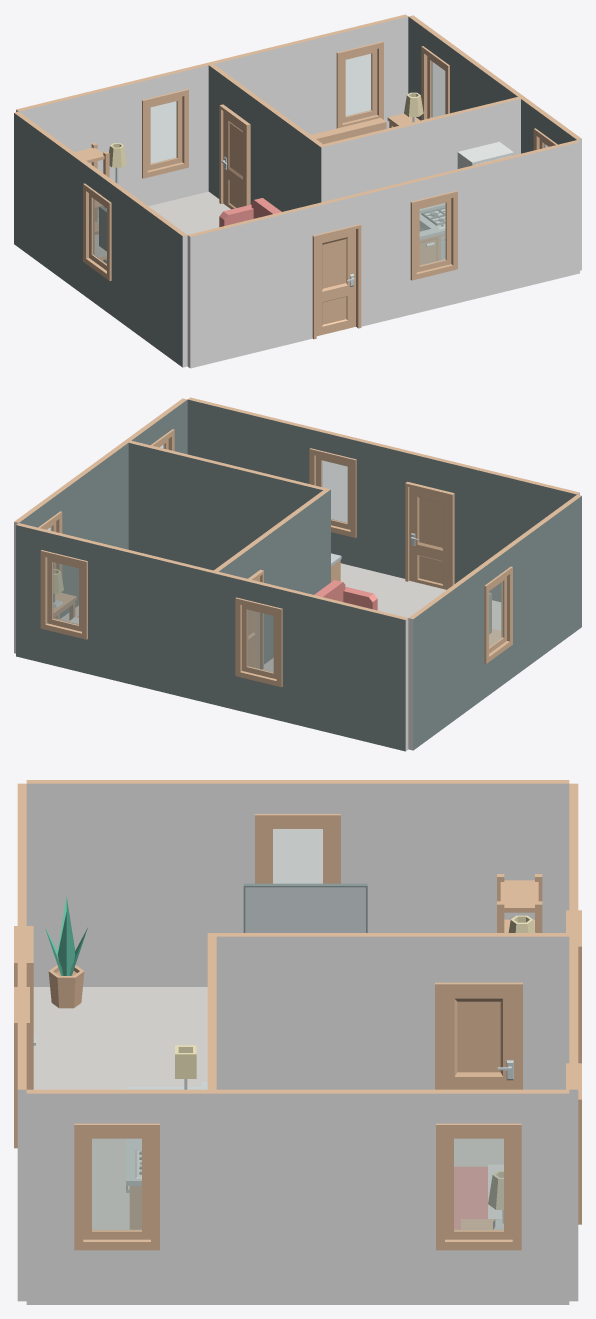
Rendered from demo.glb.
3 views of the same model, one above another, from view 1: azimuth 30°, elevation 25°; view 2: azimuth 150°, elevation 25°; view 3: azimuth 270°, elevation 25° (orthographic). The views are drawn at different scales.
Parts seen in each view (by area): view 1: wall(Clone) (×10), wallWindow(Clone) (×6), wallDoorway(Clone) (×2), window (×5), door (×3), floorFull(Clone), loungeSofa(Clone), kitchenFridge(Clone), bedDouble(Clone), doorway(Clone), bookcaseOpen(Clone), kitchenStove(Clone) (+1 smaller); view 2: wall(Clone) (×10), wallWindow(Clone) (×6), wallDoorway(Clone) (×2), window (×4), door (×2), floorFull(Clone) (×2), doorway(Clone), loungeSofa(Clone); view 3: wall(Clone) (×10), wallWindow(Clone) (×6), wallDoorway(Clone) (×2), floorFull(Clone) (×4), window (×3), door, televisionModern(Clone), cover, bookcaseOpen(Clone), pottedPlant(Clone), kitchenStove(Clone), plant (+2 smaller).
Boxes of the visible parts, left/top/right/bottom form: wall(Clone) (×10): left=14, top=38, right=579, bottom=368; wallWindow(Clone) (×6): left=70, top=14, right=581, bottom=325; wallDoorway(Clone) (×2): left=208, top=64, right=384, bottom=344; window (×5): left=89, top=49, right=451, bottom=272; door (×3): left=221, top=111, right=437, bottom=336; floorFull(Clone): left=149, top=191, right=230, bottom=234; loungeSofa(Clone): left=219, top=198, right=281, bottom=227; kitchenFridge(Clone): left=457, top=141, right=513, bottom=168; bedDouble(Clone): left=311, top=118, right=386, bottom=144; doorway(Clone): left=219, top=104, right=249, bottom=205; bookcaseOpen(Clone): left=74, top=143, right=109, bottom=234; kitchenStove(Clone): left=419, top=203, right=445, bottom=260; wall(Clone) (×10): left=70, top=397, right=581, bottom=751; wallWindow(Clone) (×6): left=14, top=398, right=525, bottom=727; wallDoorway(Clone) (×2): left=214, top=445, right=481, bottom=664; window (×4): left=47, top=455, right=506, bottom=679; door (×2): left=248, top=487, right=449, bottom=668; floorFull(Clone) (×2): left=340, top=563, right=446, bottom=617; doorway(Clone): left=405, top=482, right=454, bottom=587; loungeSofa(Clone): left=314, top=580, right=377, bottom=610; wall(Clone) (×10): left=17, top=780, right=578, bottom=1304; wallWindow(Clone) (×6): left=14, top=780, right=581, bottom=1304; wallDoorway(Clone) (×2): left=14, top=860, right=569, bottom=1089; floorFull(Clone) (×4): left=33, top=987, right=503, bottom=1216; window (×3): left=83, top=823, right=512, bottom=1239; door: left=440, top=988, right=517, bottom=1089; televisionModern(Clone): left=243, top=883, right=367, bottom=932; cover: left=454, top=1164, right=503, bottom=1229; bookcaseOpen(Clone): left=497, top=874, right=542, bottom=932; pottedPlant(Clone): left=48, top=965, right=84, bottom=1008; kitchenStove(Clone): left=126, top=1148, right=141, bottom=1229; plant: left=45, top=896, right=87, bottom=975.
Bounding box in the file's own units: 4.14 × 1.29 × 3.14.
